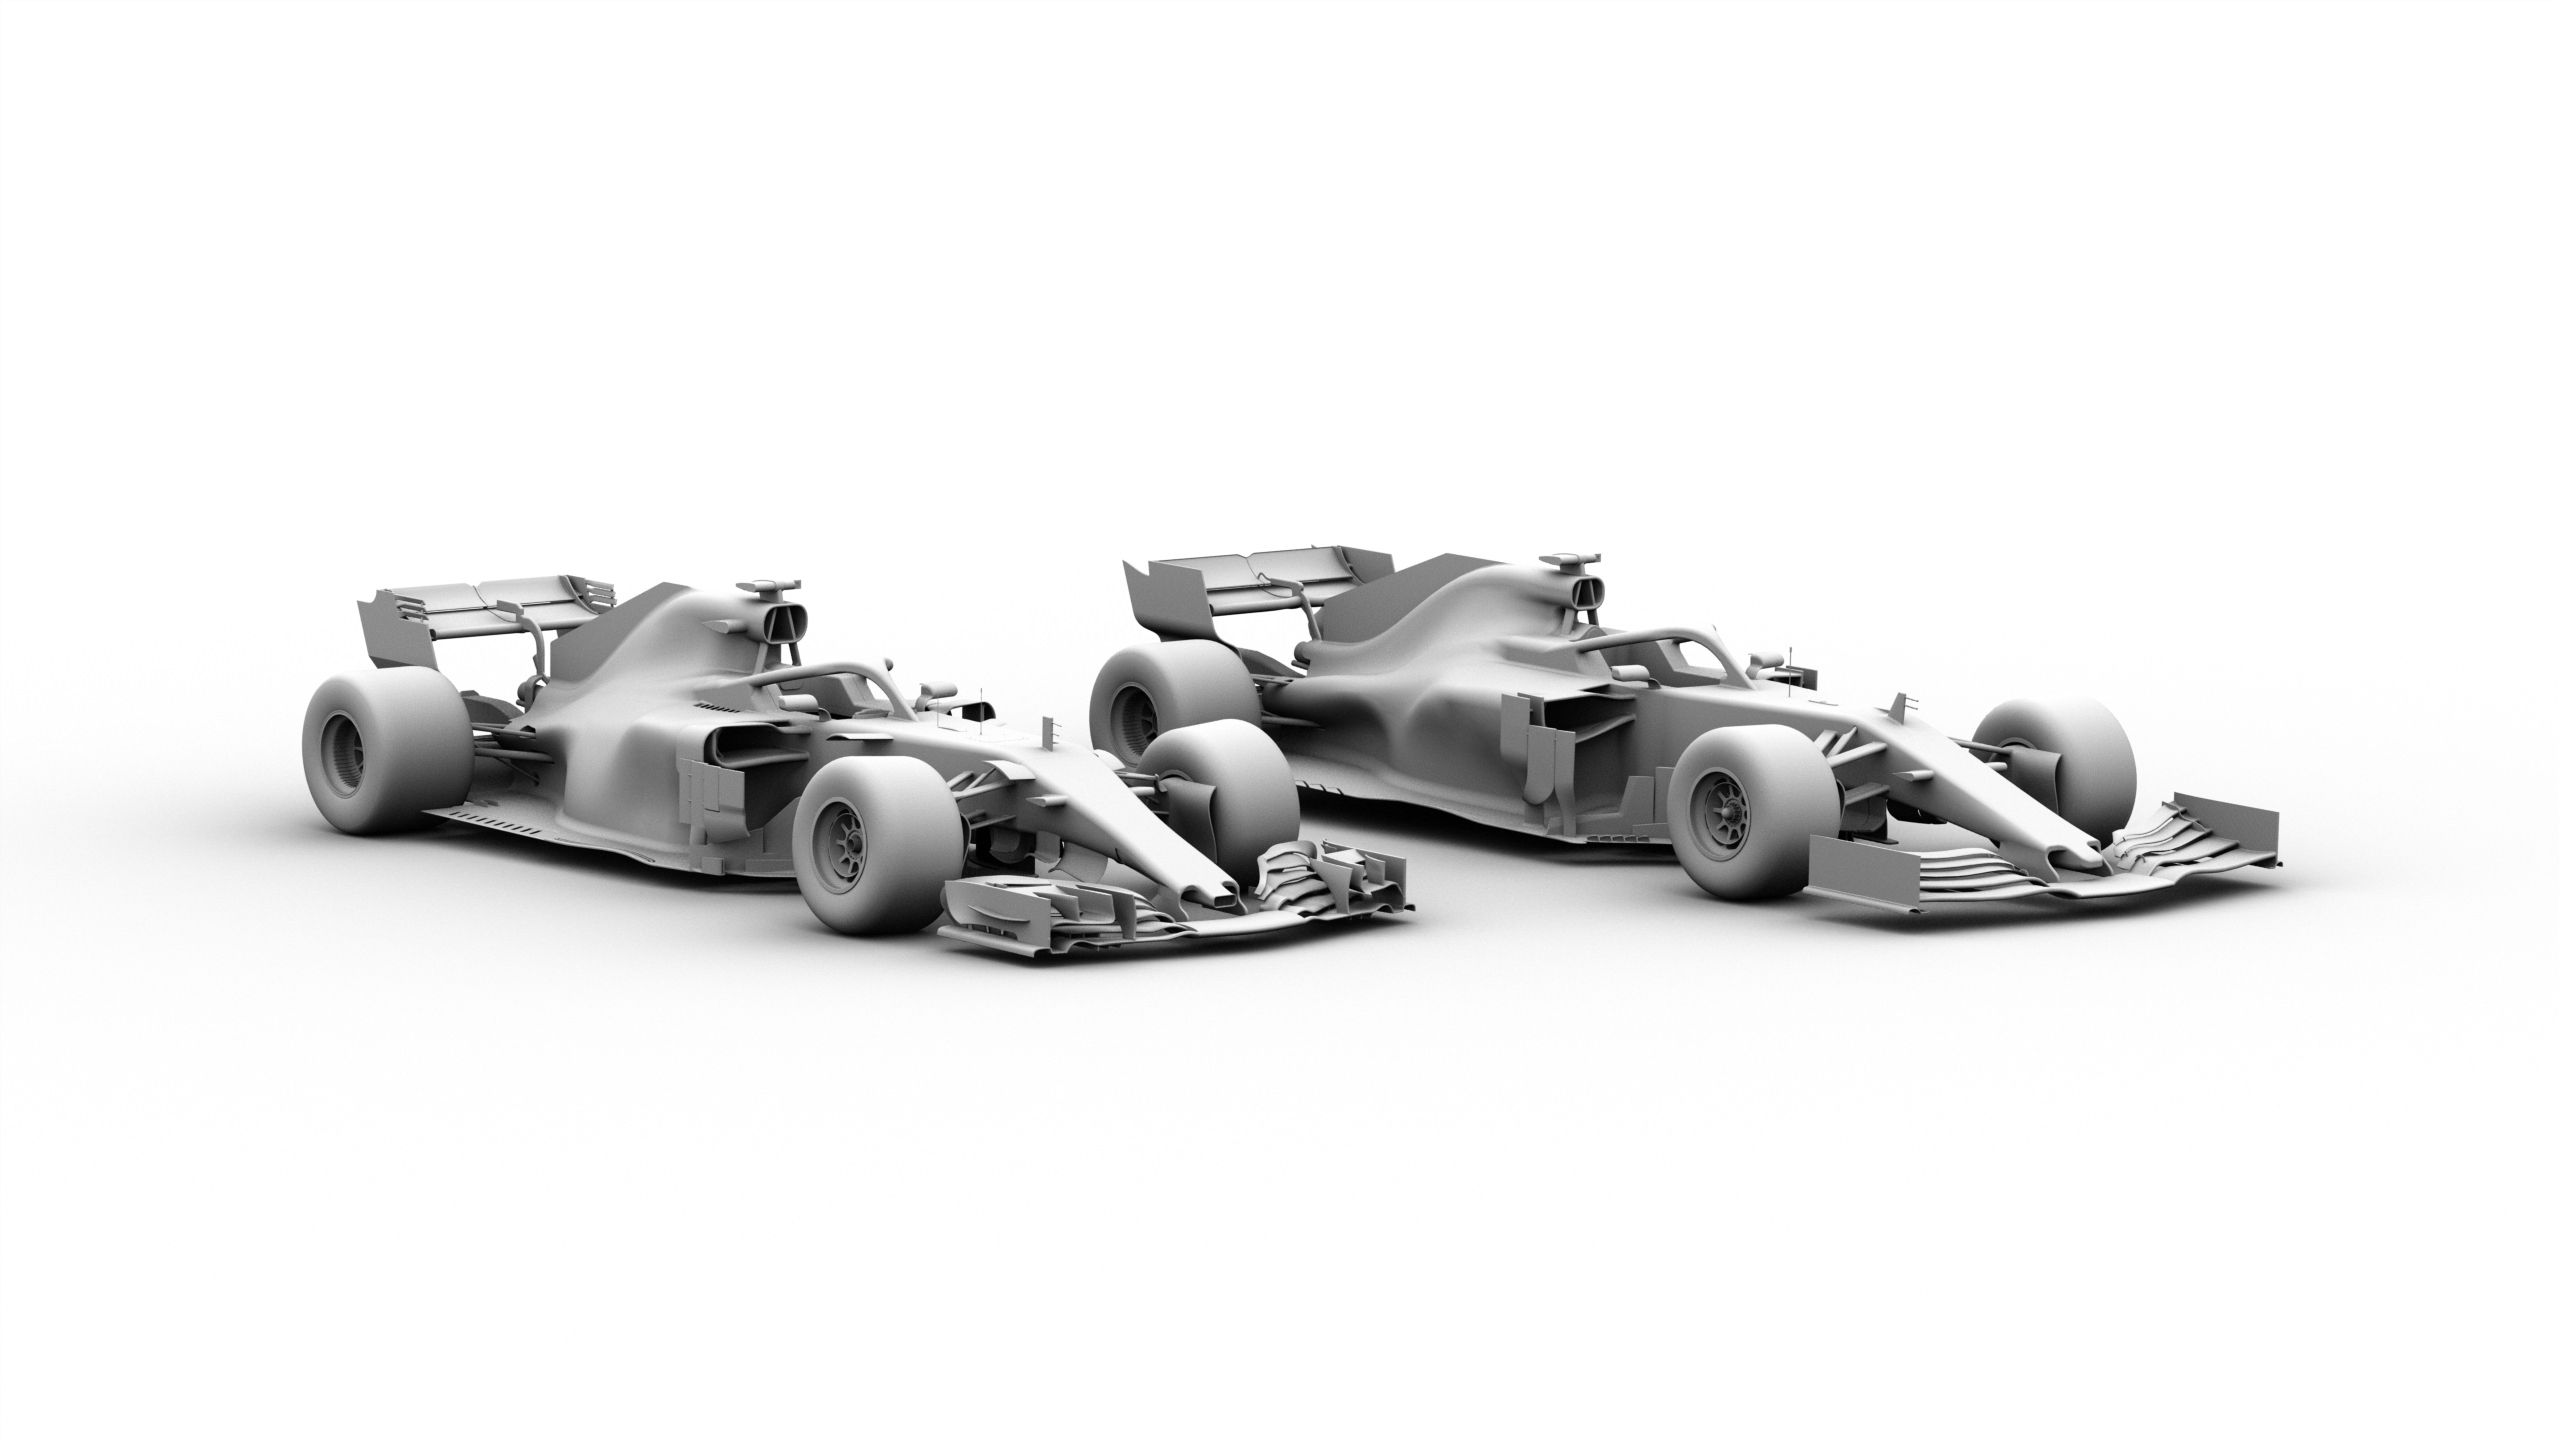f1_car: (1071, 517, 2300, 941), (281, 547, 1435, 992)
